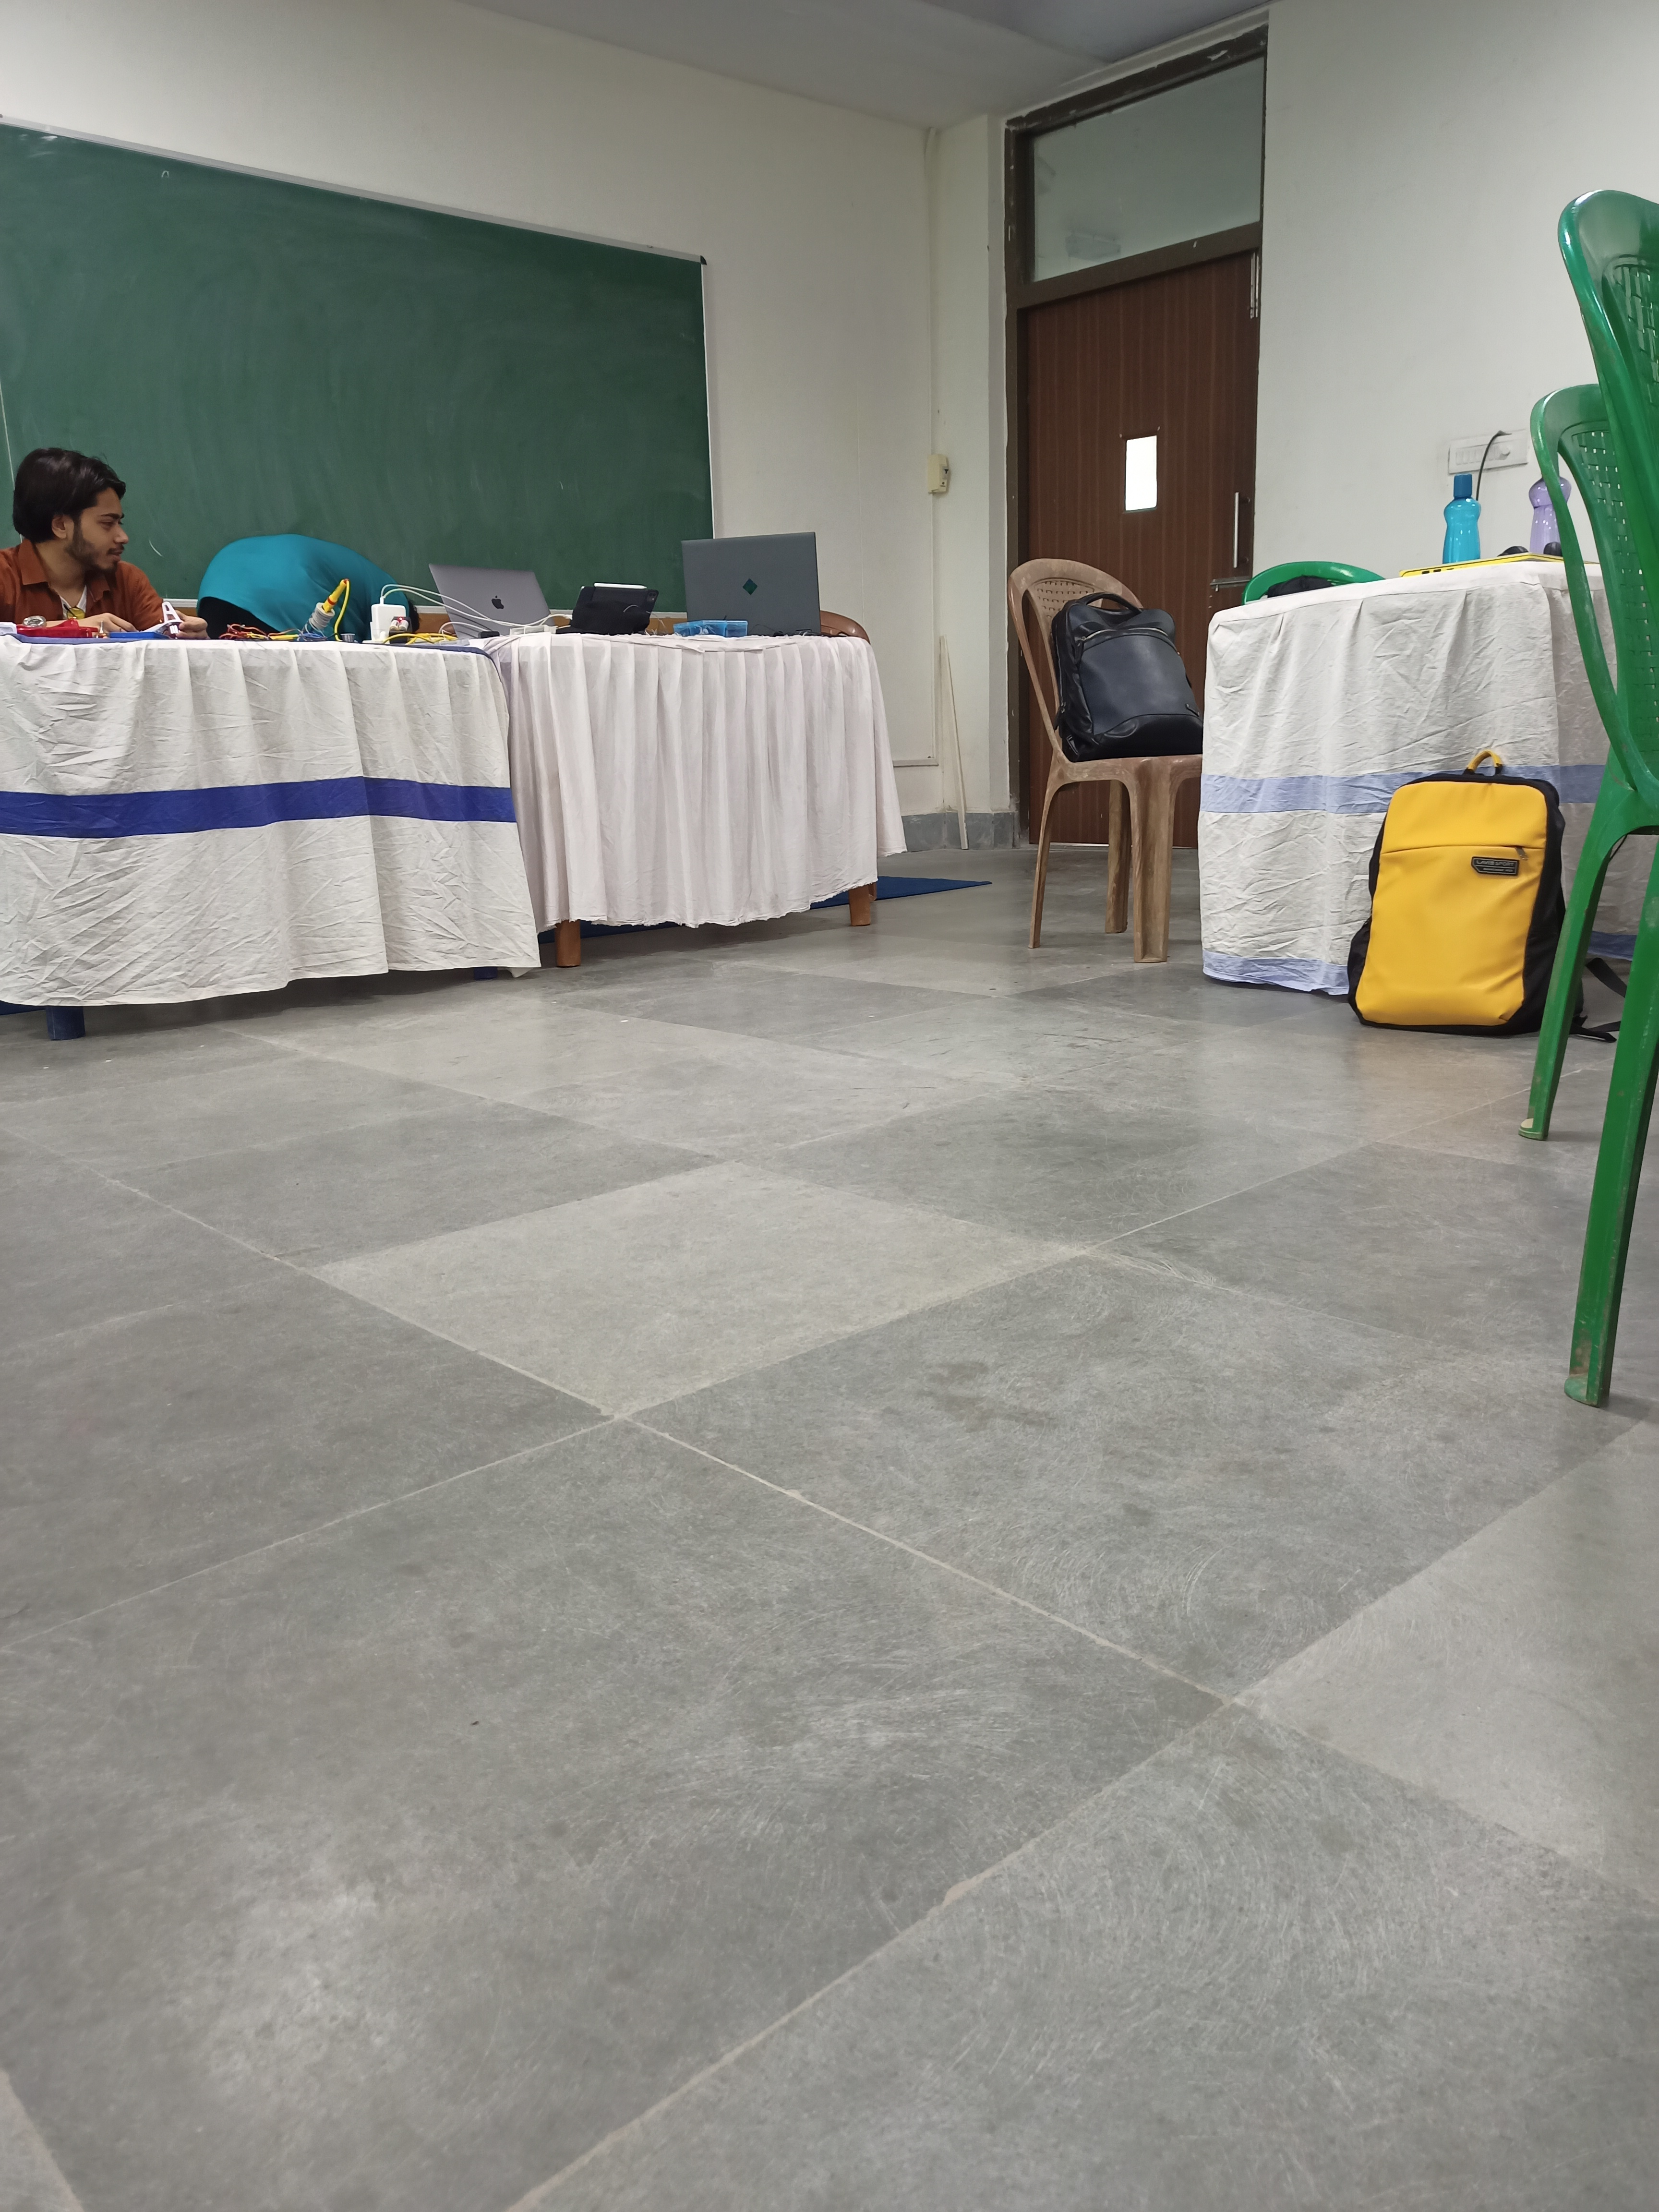Obstacle: (1019, 552, 1640, 1015), (0, 470, 545, 961), (530, 536, 939, 941)
Path: (134, 1047, 1443, 2212)
